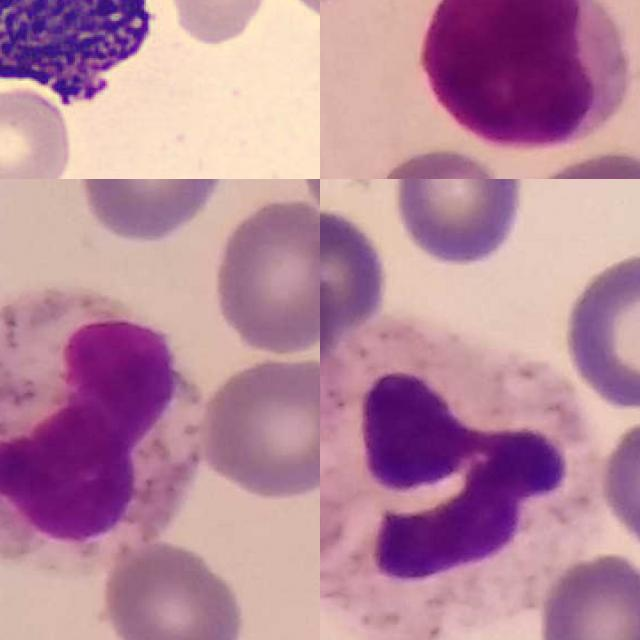Basophil: (0, 0, 181, 125)
Lymphocyte: (418, 0, 629, 151)
Neutrophil: (320, 326, 591, 611), (0, 294, 203, 566)
RBC: (0, 80, 76, 179), (161, 0, 277, 47)
